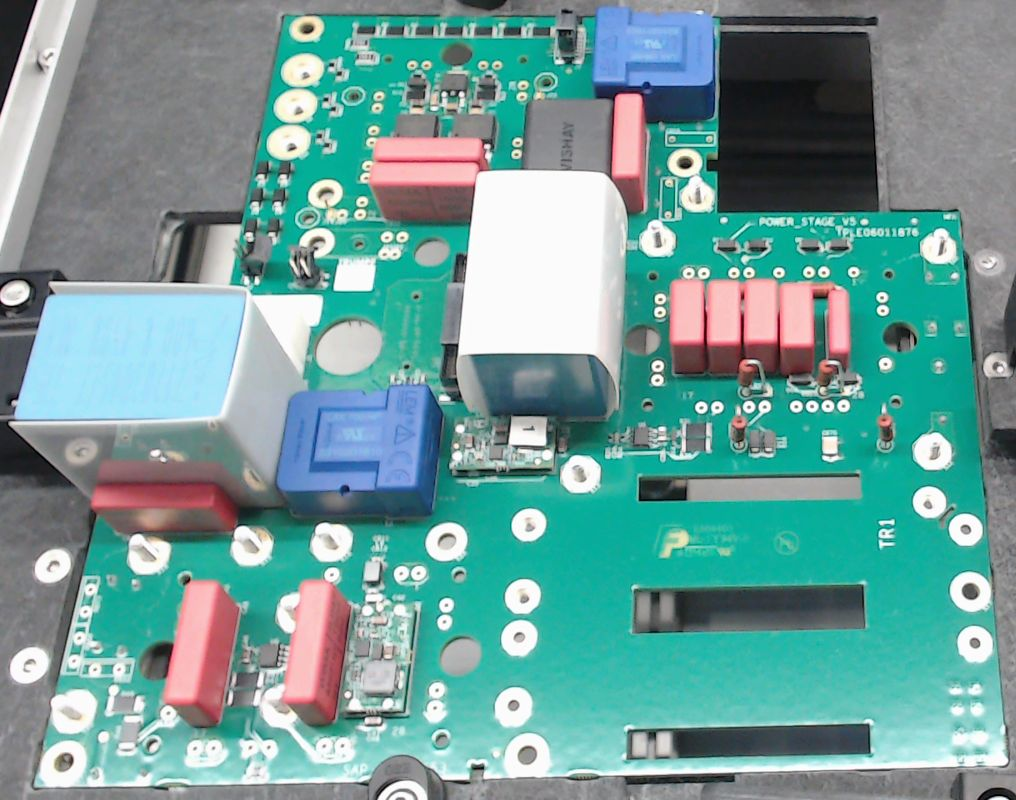comp1: (276, 383, 444, 518), (592, 7, 716, 120)
comp2: (160, 580, 240, 726), (282, 580, 356, 723), (90, 481, 239, 530), (370, 161, 478, 223), (610, 93, 647, 213), (741, 277, 778, 380), (667, 279, 706, 376), (705, 276, 741, 376), (778, 281, 815, 375), (370, 135, 484, 161), (827, 287, 850, 361)
comp3: (524, 96, 615, 172)
comp4: (8, 280, 309, 509), (456, 169, 629, 419)
